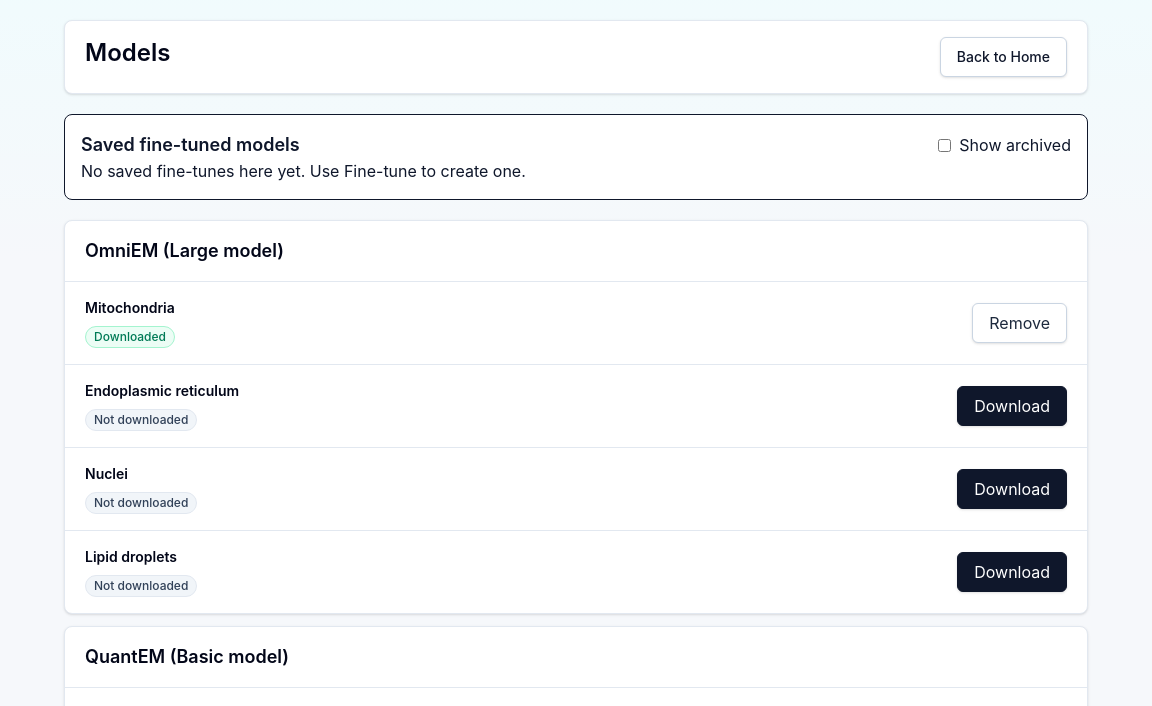
ModelsScreen › shows the backend's model-action error on the affected row
Click the 1st button "Download" at (1012, 406), box [957, 386, 1067, 426]
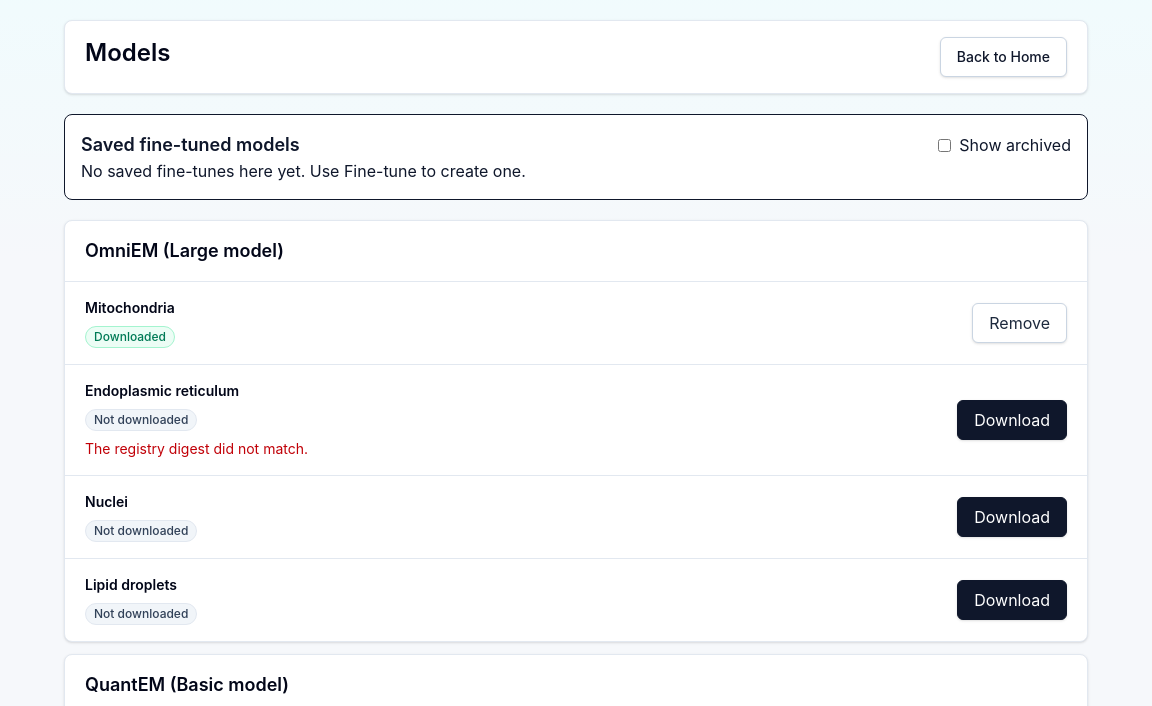
Now the message reads "The registry digest did not match.", box [85, 440, 308, 457]
